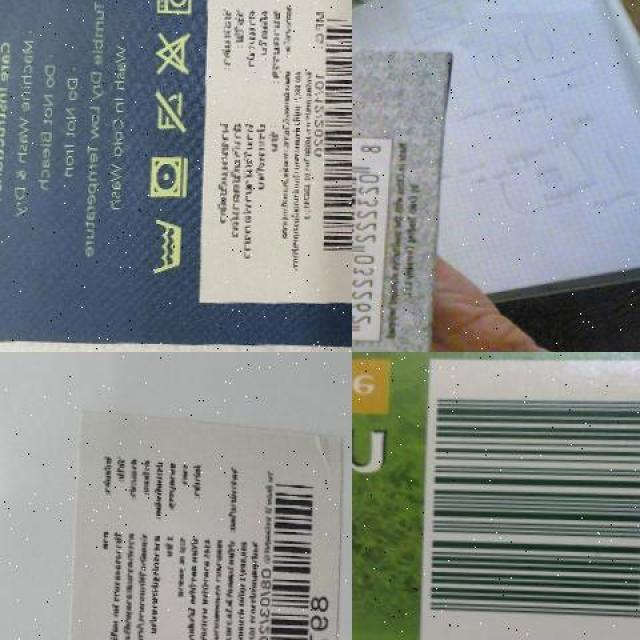Barcode: (418, 352, 640, 640), (259, 460, 336, 640), (308, 3, 352, 268), (352, 130, 388, 338)
